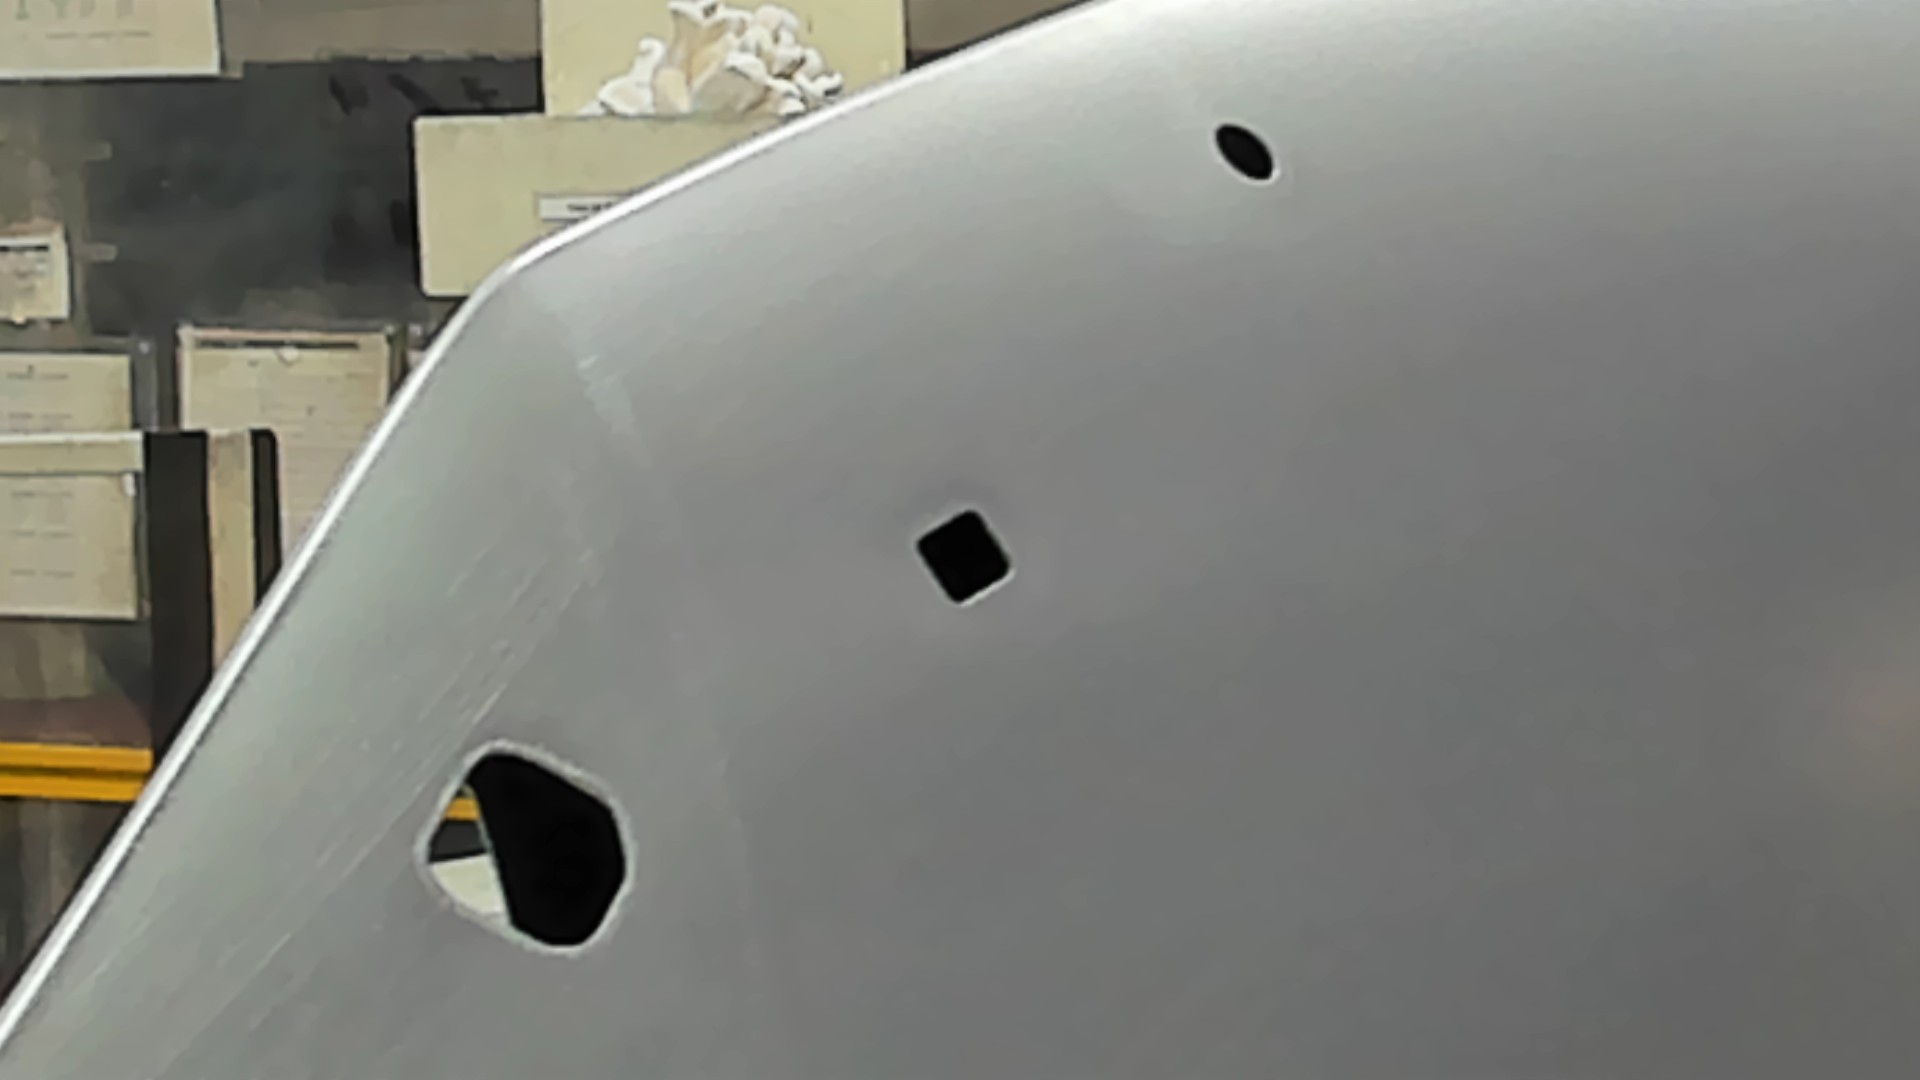capo: (1019, 196, 1920, 1080)
chico: (1211, 119, 1284, 189)
grande: (409, 741, 640, 960)
mediano: (907, 505, 1019, 611)
